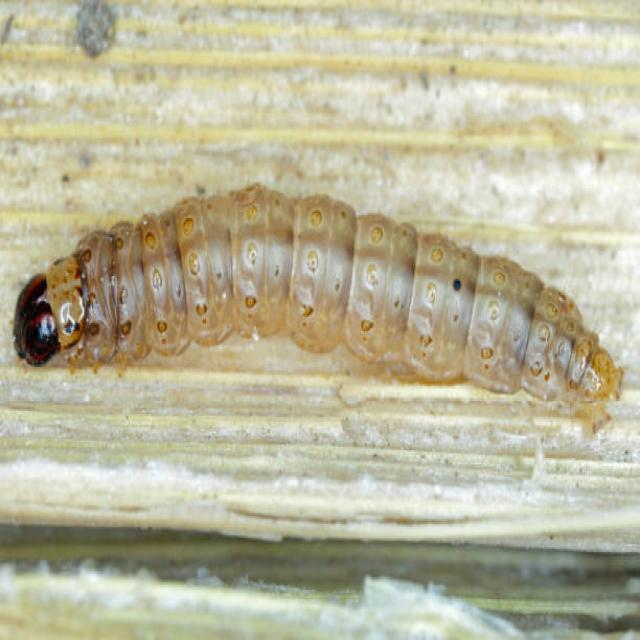cornborer-Larva-: (11, 178, 628, 440)
